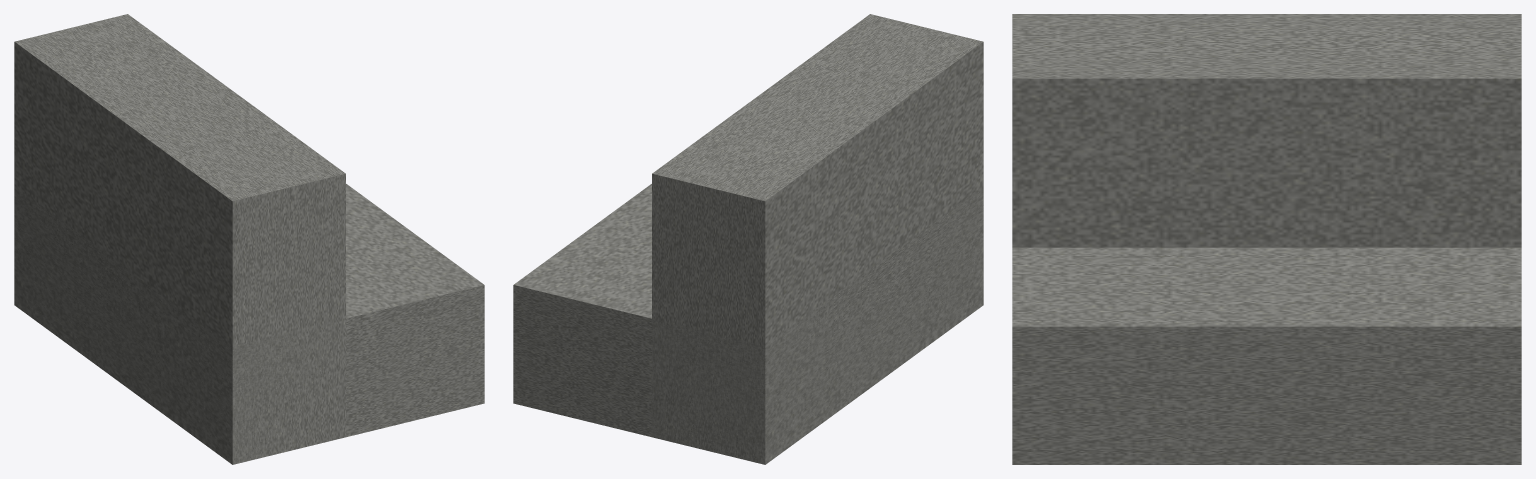
3 views of the same model, side by side, from view 1: azimuth 30°, elevation 25°; view 2: azimuth 150°, elevation 25°; view 3: azimuth 270°, elevation 25° (orthographic). The views are drawn at different scales.
Parts seen in each view (by area): view 1: corner_T_lod0_run001; view 2: corner_T_lod0_run001; view 3: corner_T_lod0_run001.
Part boxes in pixels (x1,y1,x2,y2): corner_T_lod0_run001: (14, 14, 484, 464); corner_T_lod0_run001: (513, 14, 983, 464); corner_T_lod0_run001: (1012, 14, 1521, 464).
Bounding box in the file's own units: 2 × 2 × 3.
Materials: 1 (1 with a texture image).
